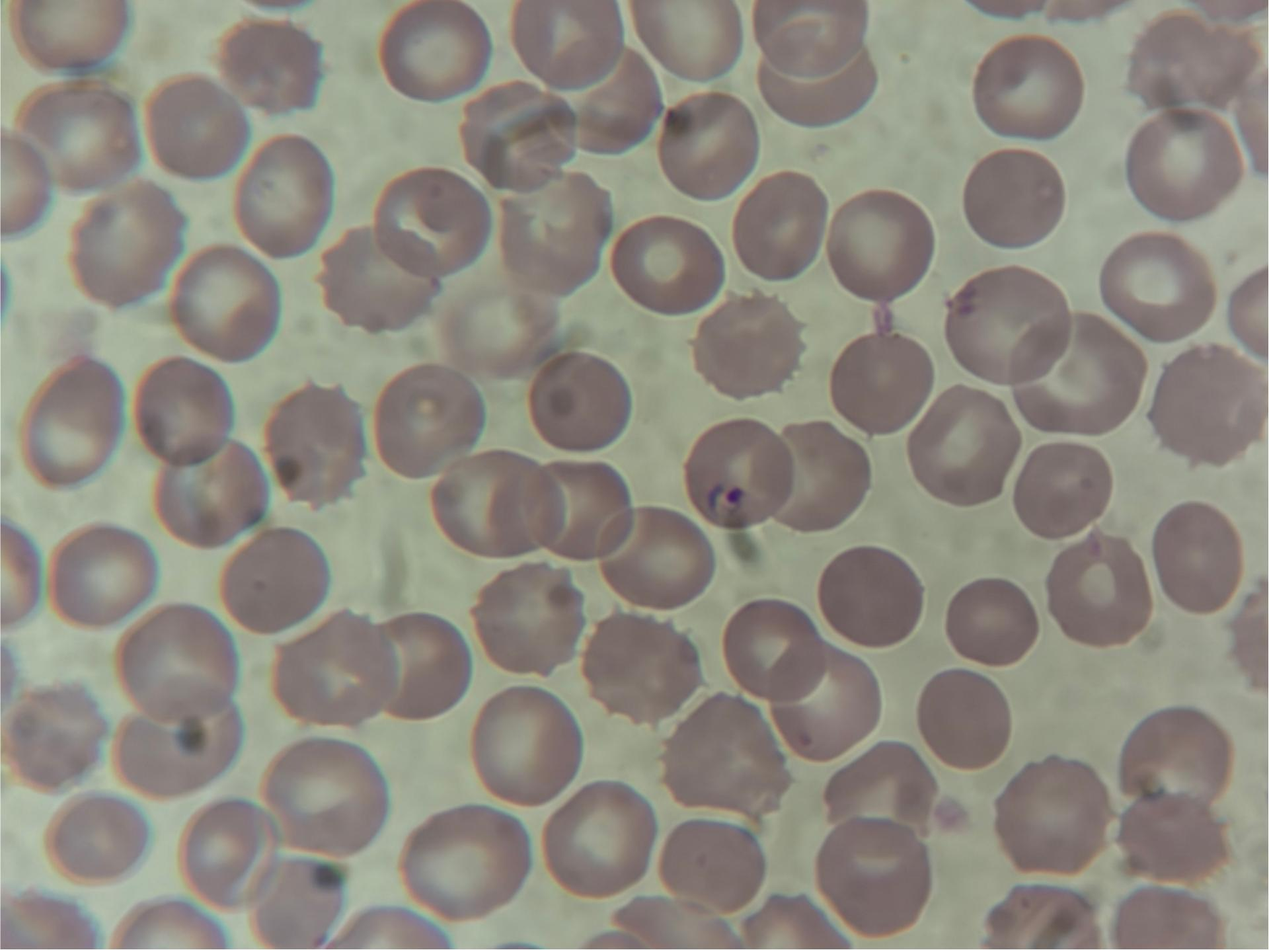Infected: (474, 420, 586, 528)
Uninfected: (478, 132, 611, 255), (123, 512, 253, 637), (877, 90, 1007, 211), (868, 221, 998, 339), (198, 563, 326, 682), (3, 479, 121, 607), (654, 654, 774, 778), (738, 29, 866, 143), (156, 72, 276, 193), (336, 12, 455, 134), (24, 726, 145, 845), (48, 603, 169, 720), (564, 223, 687, 338), (387, 184, 506, 301), (1028, 225, 1147, 342), (1083, 644, 1197, 766), (1139, 463, 1245, 592), (684, 141, 798, 260), (248, 442, 362, 561), (458, 547, 580, 658), (8, 835, 140, 937), (682, 269, 800, 383), (1124, 757, 1248, 865), (900, 442, 1008, 564), (611, 50, 725, 165), (719, 389, 839, 498), (988, 586, 1101, 701), (783, 471, 898, 584), (776, 671, 894, 781), (551, 340, 673, 446), (1027, 148, 1157, 247), (688, 754, 805, 864), (831, 617, 947, 725), (115, 303, 225, 416), (332, 650, 445, 760), (997, 401, 1112, 509), (506, 749, 613, 863), (705, 567, 830, 664), (184, 809, 297, 916), (332, 510, 442, 619), (937, 315, 1049, 422), (933, 694, 1034, 812), (38, 61, 157, 161), (543, 633, 658, 736), (344, 299, 454, 405), (1112, 319, 1221, 424), (36, 143, 149, 244), (202, 697, 311, 801), (397, 418, 498, 530), (25, 333, 122, 449), (502, 33, 614, 133), (775, 848, 888, 947), (330, 114, 446, 210), (634, 496, 742, 599), (991, 40, 1093, 149), (1032, 483, 1135, 590), (441, 248, 549, 350), (440, 667, 541, 775), (1016, 770, 1121, 873), (153, 409, 260, 509), (944, 835, 1054, 932), (390, 820, 512, 907), (1166, 158, 1266, 264), (254, 177, 354, 282), (641, 859, 756, 950), (633, 388, 734, 490), (797, 229, 892, 337), (603, 795, 699, 901), (1118, 63, 1223, 156), (523, 867, 635, 949), (229, 281, 327, 374), (401, 872, 516, 949), (923, 3, 1018, 91), (44, 3, 156, 65)
